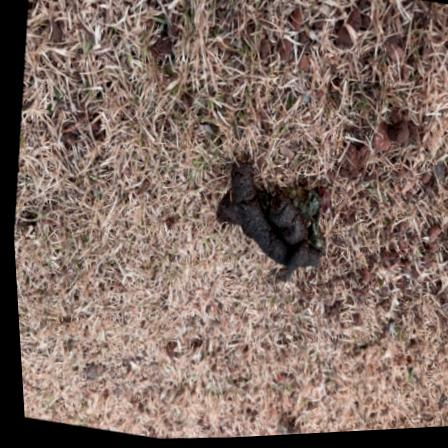dog-poop: (206, 164, 340, 289)
